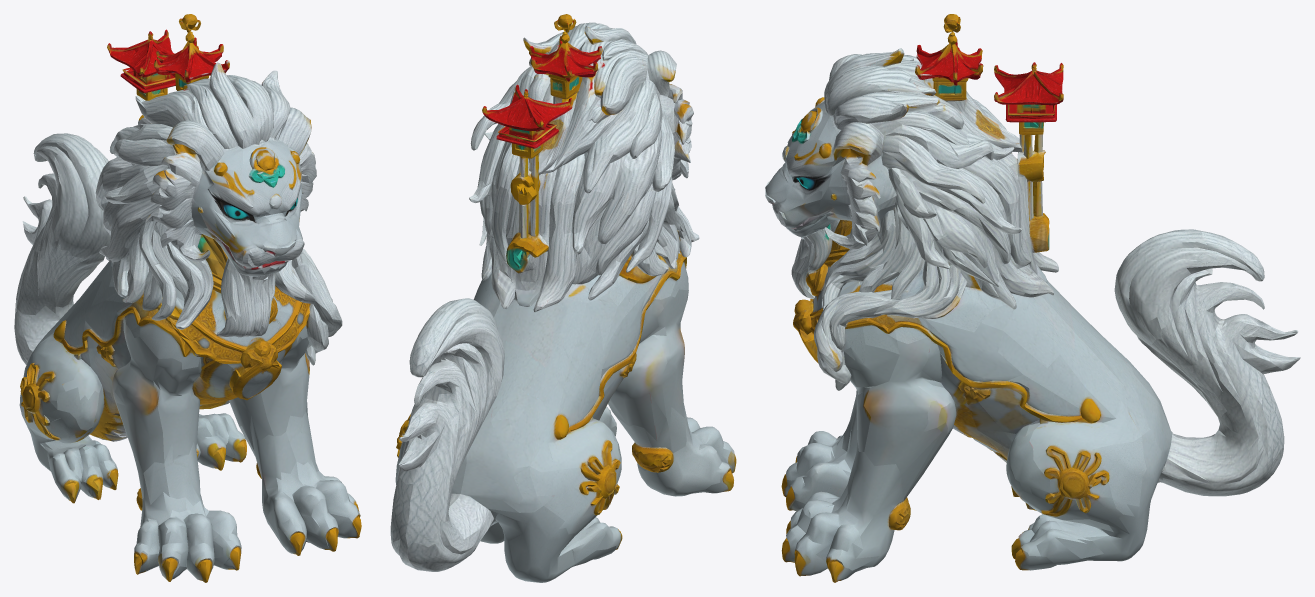
Rendered from tenshu.glb.
The picture shows the model from 3 angles, left to right: view 1: azimuth 30°, elevation 25°; view 2: azimuth 150°, elevation 25°; view 3: azimuth 270°, elevation 25°; orthographic projection. The views are drawn at different scales.
Bounding box in the file's own units: 0.9025 × 1.9 × 1.79.
1 material, 1 textured.
